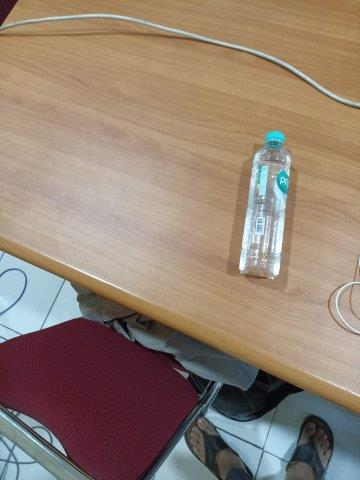botolplastik: (237, 130, 292, 277)
